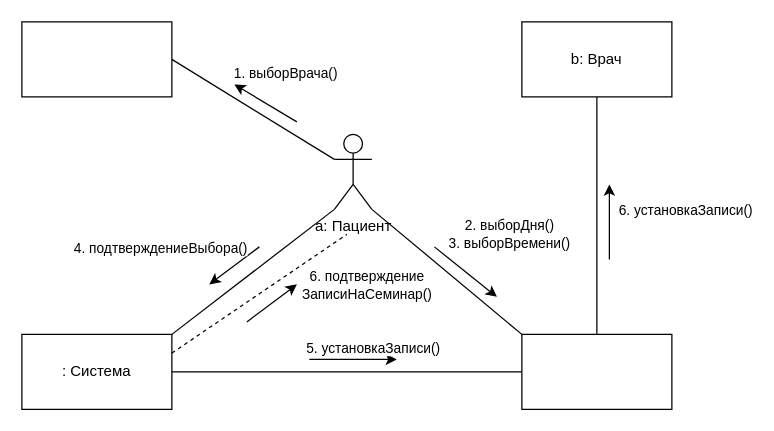
This 774x431 diagram has some shape labels left out. The shapes that lost their labels are listed below. From the top down, each one's box as (x1, y1, x2, y2) in pixels, then its label:
(21, 21, 172, 97): : Сведения о врачах
(521, 333, 672, 409): : Расписание
